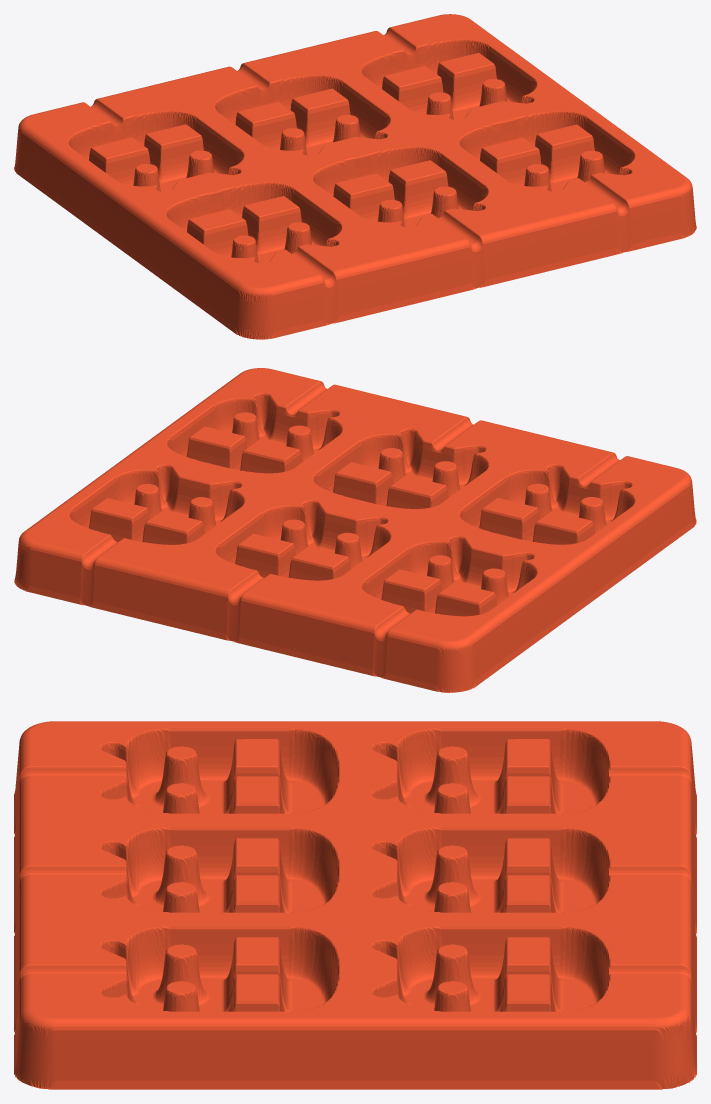
File: mold.glb
3 renders of one model, top to bottom at view 1: azimuth 30°, elevation 25°; view 2: azimuth 150°, elevation 25°; view 3: azimuth 270°, elevation 25°, orthographic. The views are drawn at different scales.
Visible parts, largest first — view 1: geometry_0; view 2: geometry_0; view 3: geometry_0.
Boxes of the visible parts, box(x1,y1,x2,y2) form: geometry_0: box(14, 14, 696, 339); geometry_0: box(14, 368, 696, 692); geometry_0: box(14, 721, 696, 1089).
Bounding box in the file's own units: 0.1585 × 0.0155 × 0.1477.
